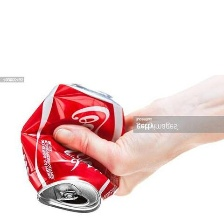can: (13, 79, 128, 221)
